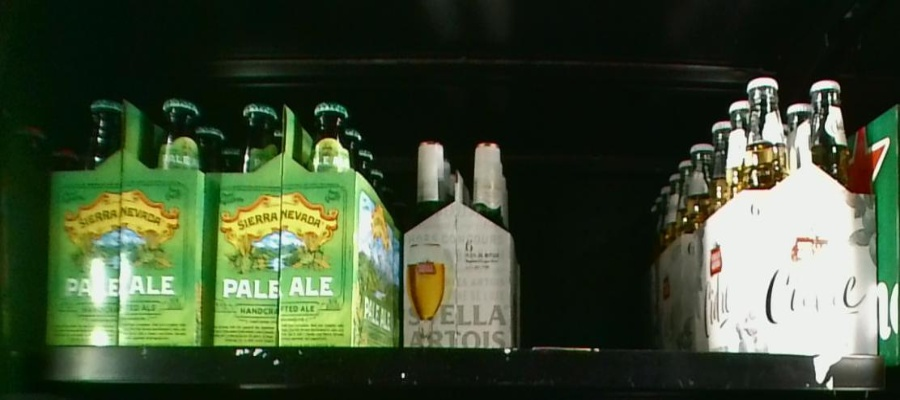bottle: (209, 92, 400, 345), (50, 92, 205, 344), (740, 81, 876, 367), (401, 131, 514, 345)
